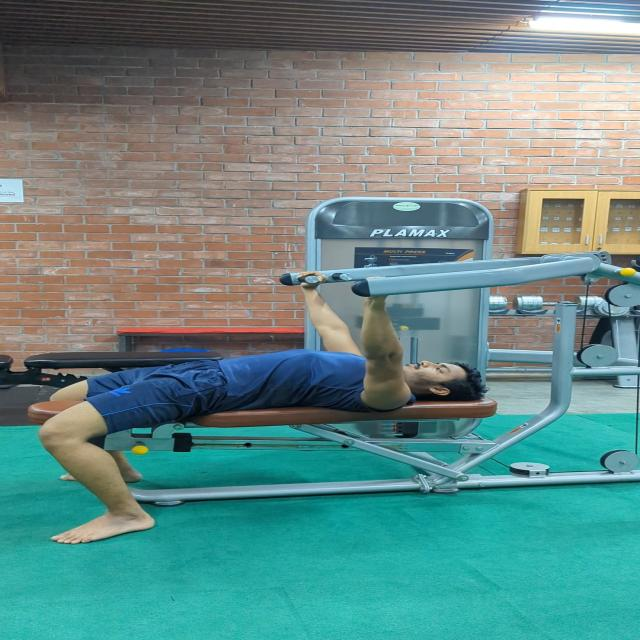Normal_BrenchPress: (37, 270, 496, 556)
